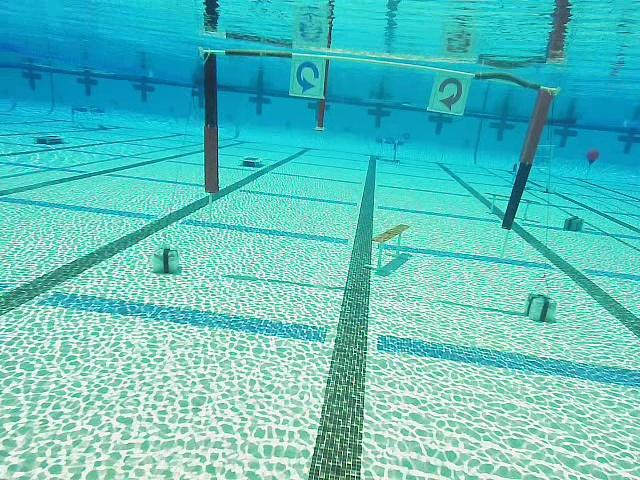buoy: (587, 147, 600, 171)
dropper: (240, 155, 263, 167)
gate: (197, 47, 557, 232)
gate_blue: (292, 59, 324, 98)
gate_leg_l: (203, 49, 220, 194)
gate_leg_r: (501, 85, 553, 230)
gate_red: (432, 75, 468, 114)
table: (374, 136, 405, 164)
